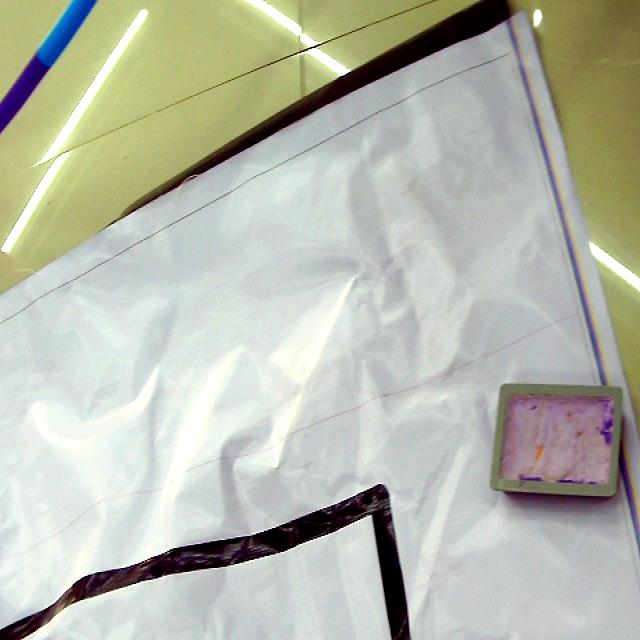block: (487, 381, 623, 497)
